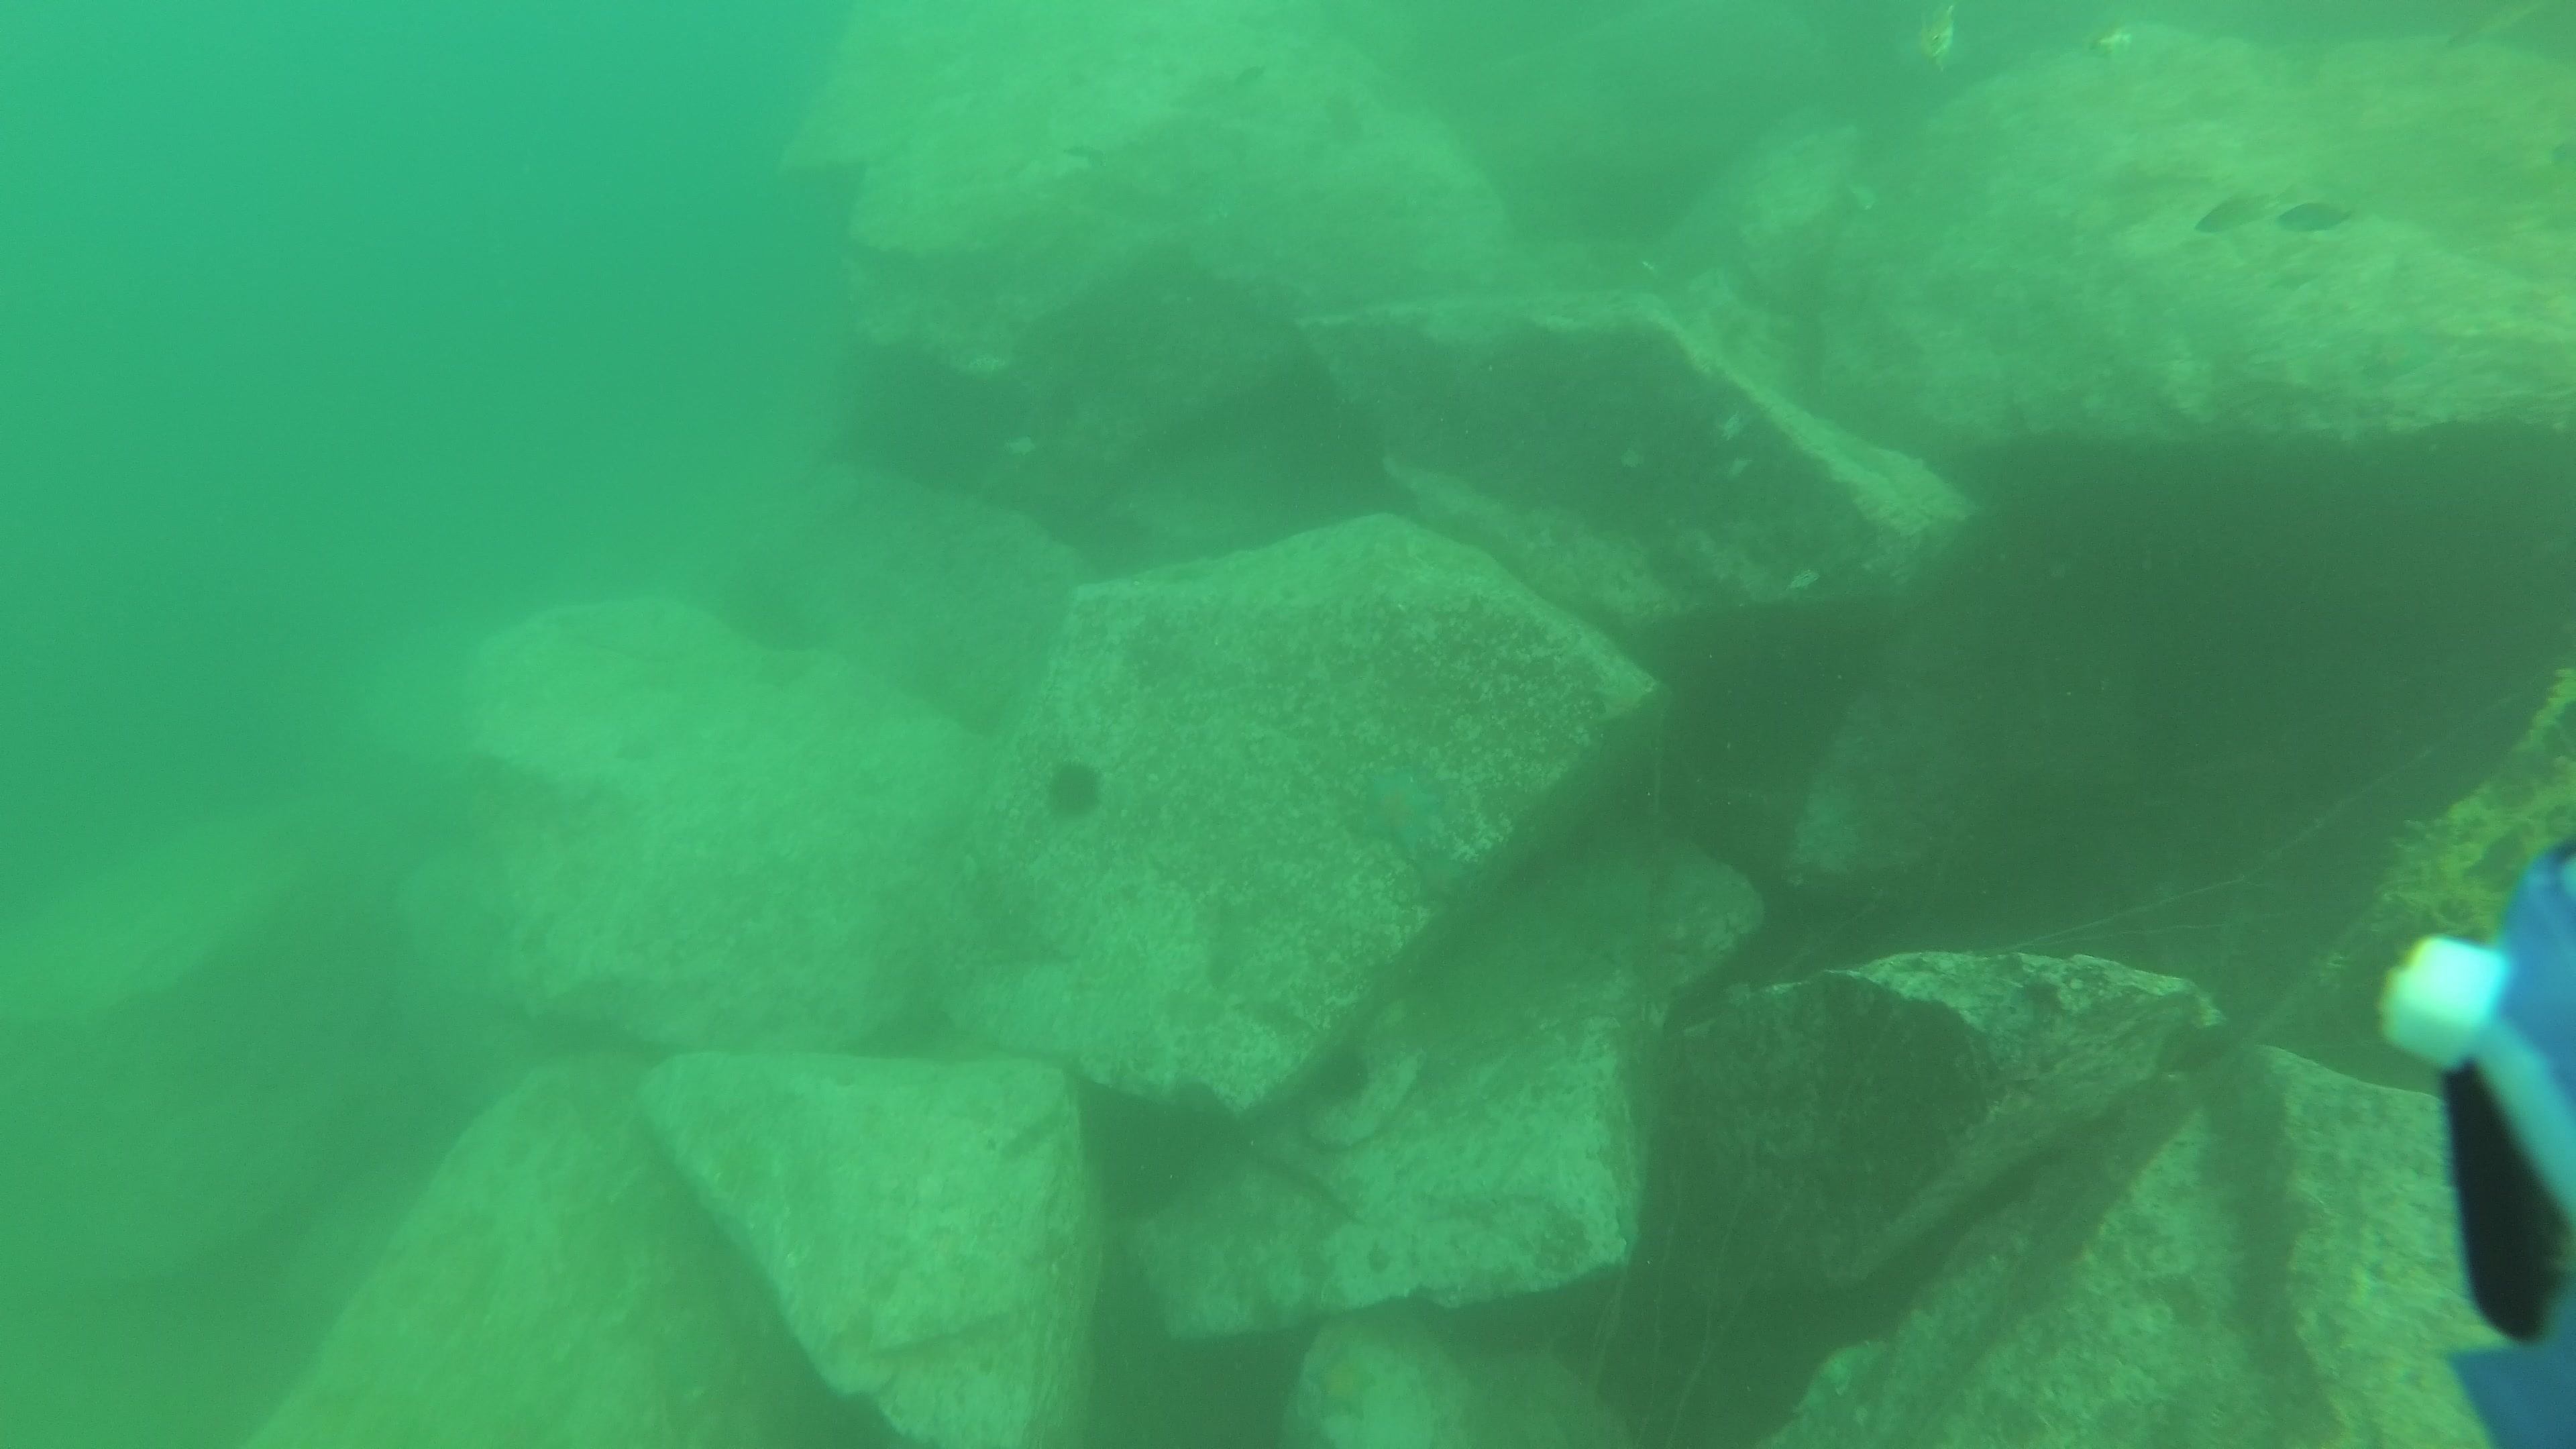echinus: (1037, 755, 1109, 828), (1313, 1042, 1375, 1108)
starfish: (1353, 761, 1445, 863)
